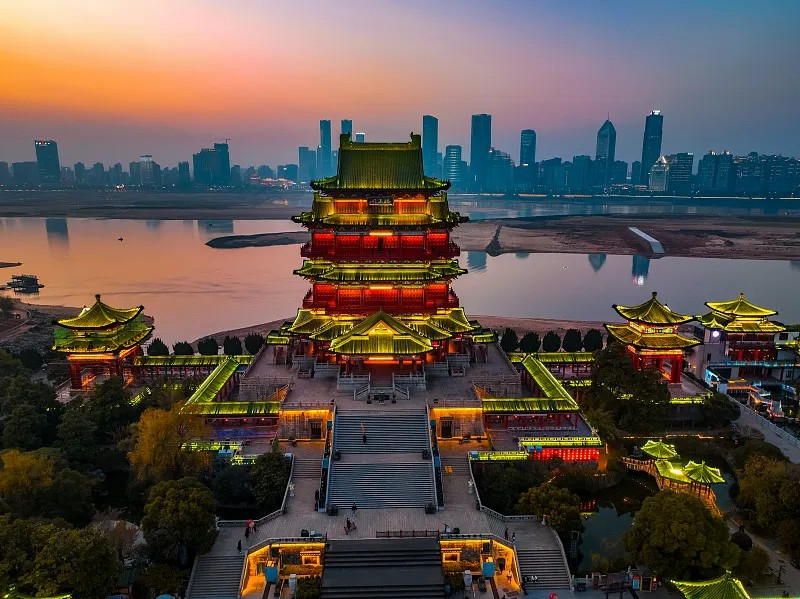Teng: (266, 131, 494, 376)
